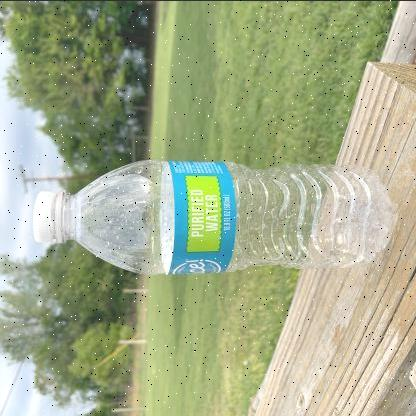Plastic Bottle: (33, 160, 394, 272)
